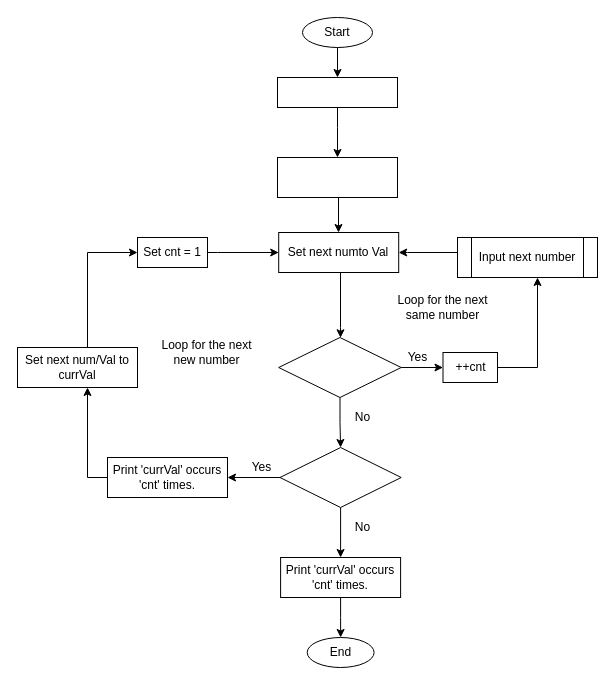
Image size: 615x685. Some labels were removed from this diagram. Each missing label, with the centre of its shape:
Set cnt=1: the point at 337,92
Set the first number typed to 'currVal': the point at 337,177
val == currVal?: the point at 339,367
val == int?: the point at 340,477
